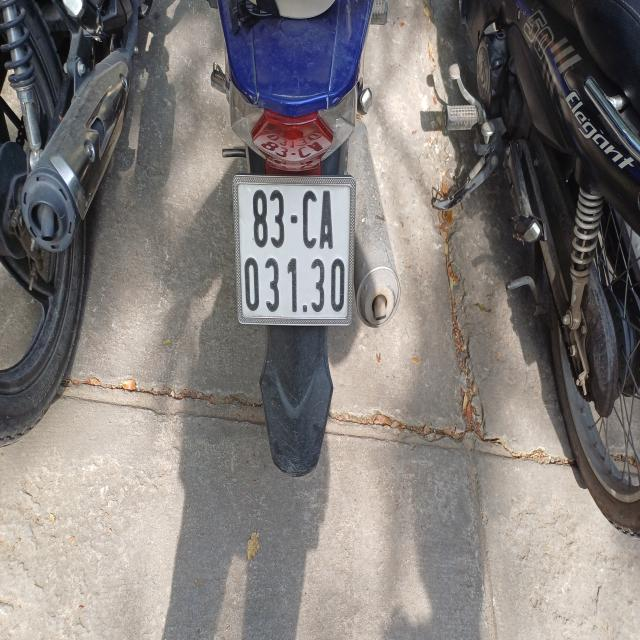0: (329, 255, 346, 315), (244, 255, 260, 314)
1: (286, 251, 300, 312)
3: (309, 255, 328, 316), (264, 255, 283, 312), (270, 190, 286, 246)
8: (252, 190, 269, 252)
A: (319, 188, 335, 254)
C: (300, 184, 318, 252)
